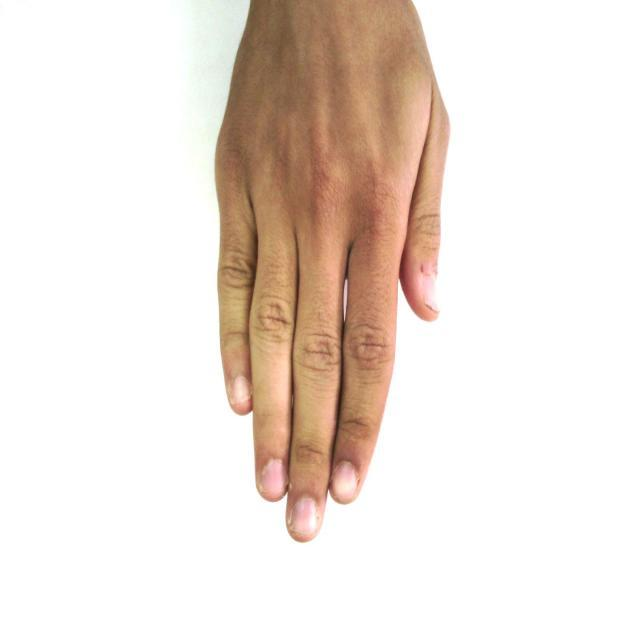Fingernail: (331, 462, 358, 501), (291, 497, 317, 535), (262, 459, 285, 497), (423, 266, 437, 310), (233, 377, 248, 403)
